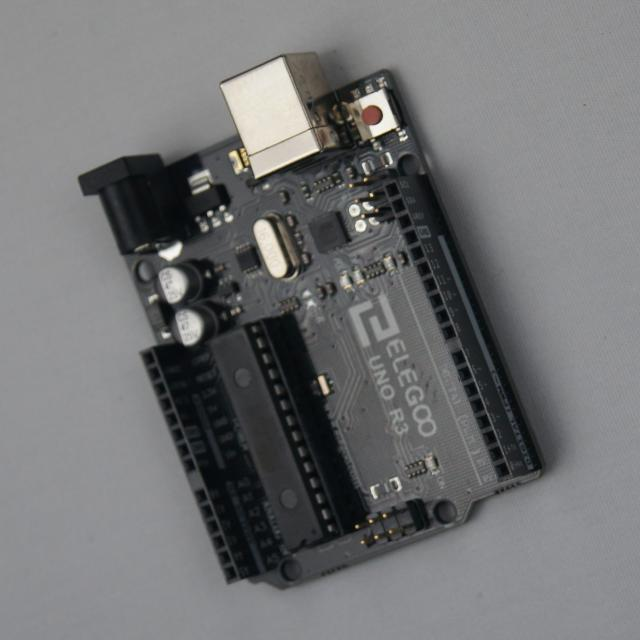Arduino Uno -Black-: (80, 54, 543, 587)
